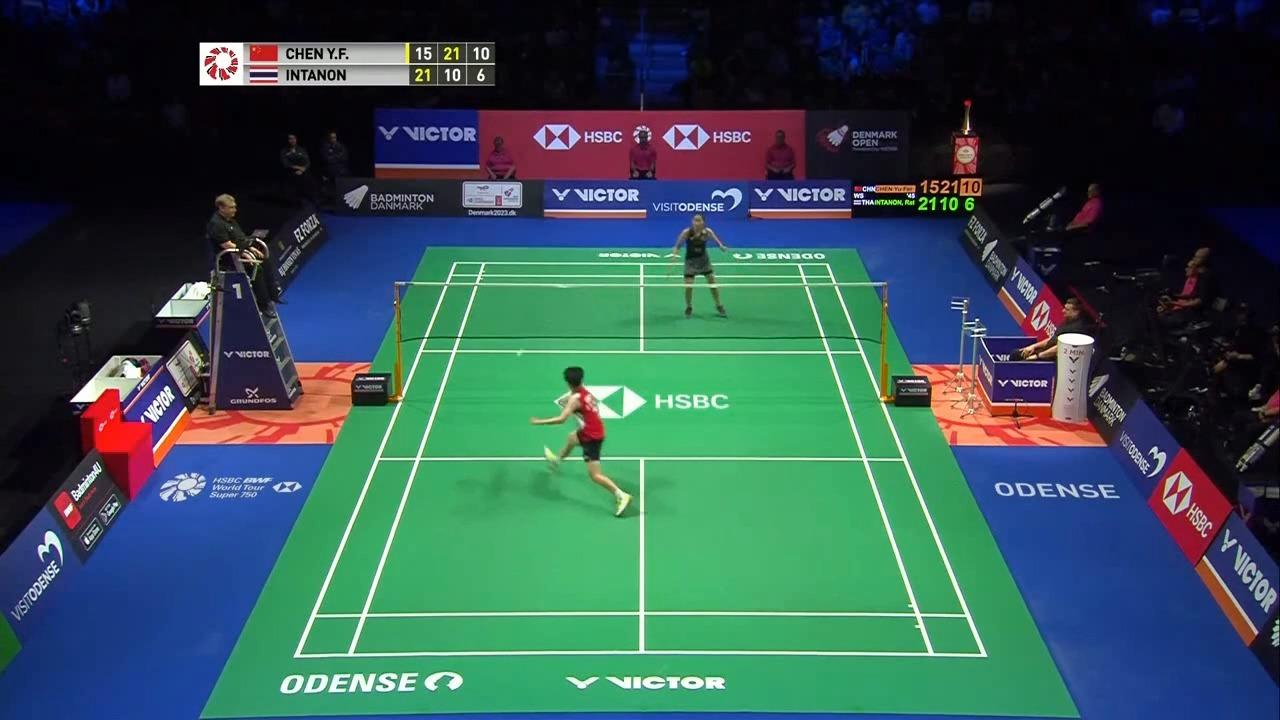shuttle: (515, 345, 526, 361)
